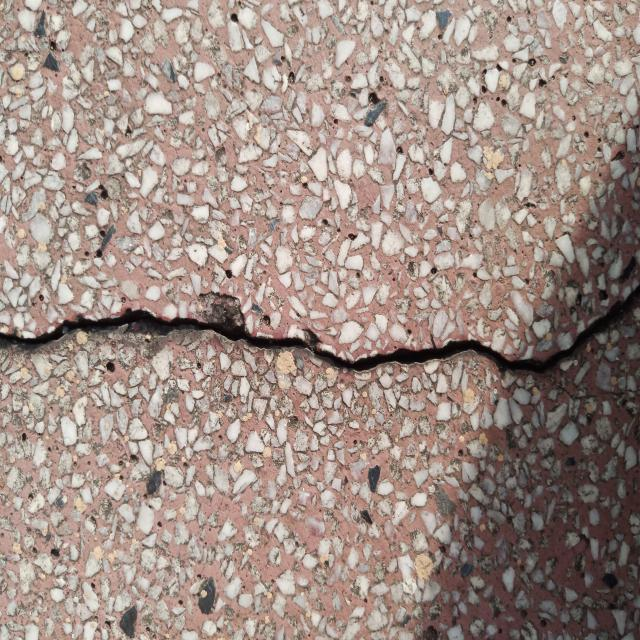horizontal crack: (0, 287, 640, 373)
